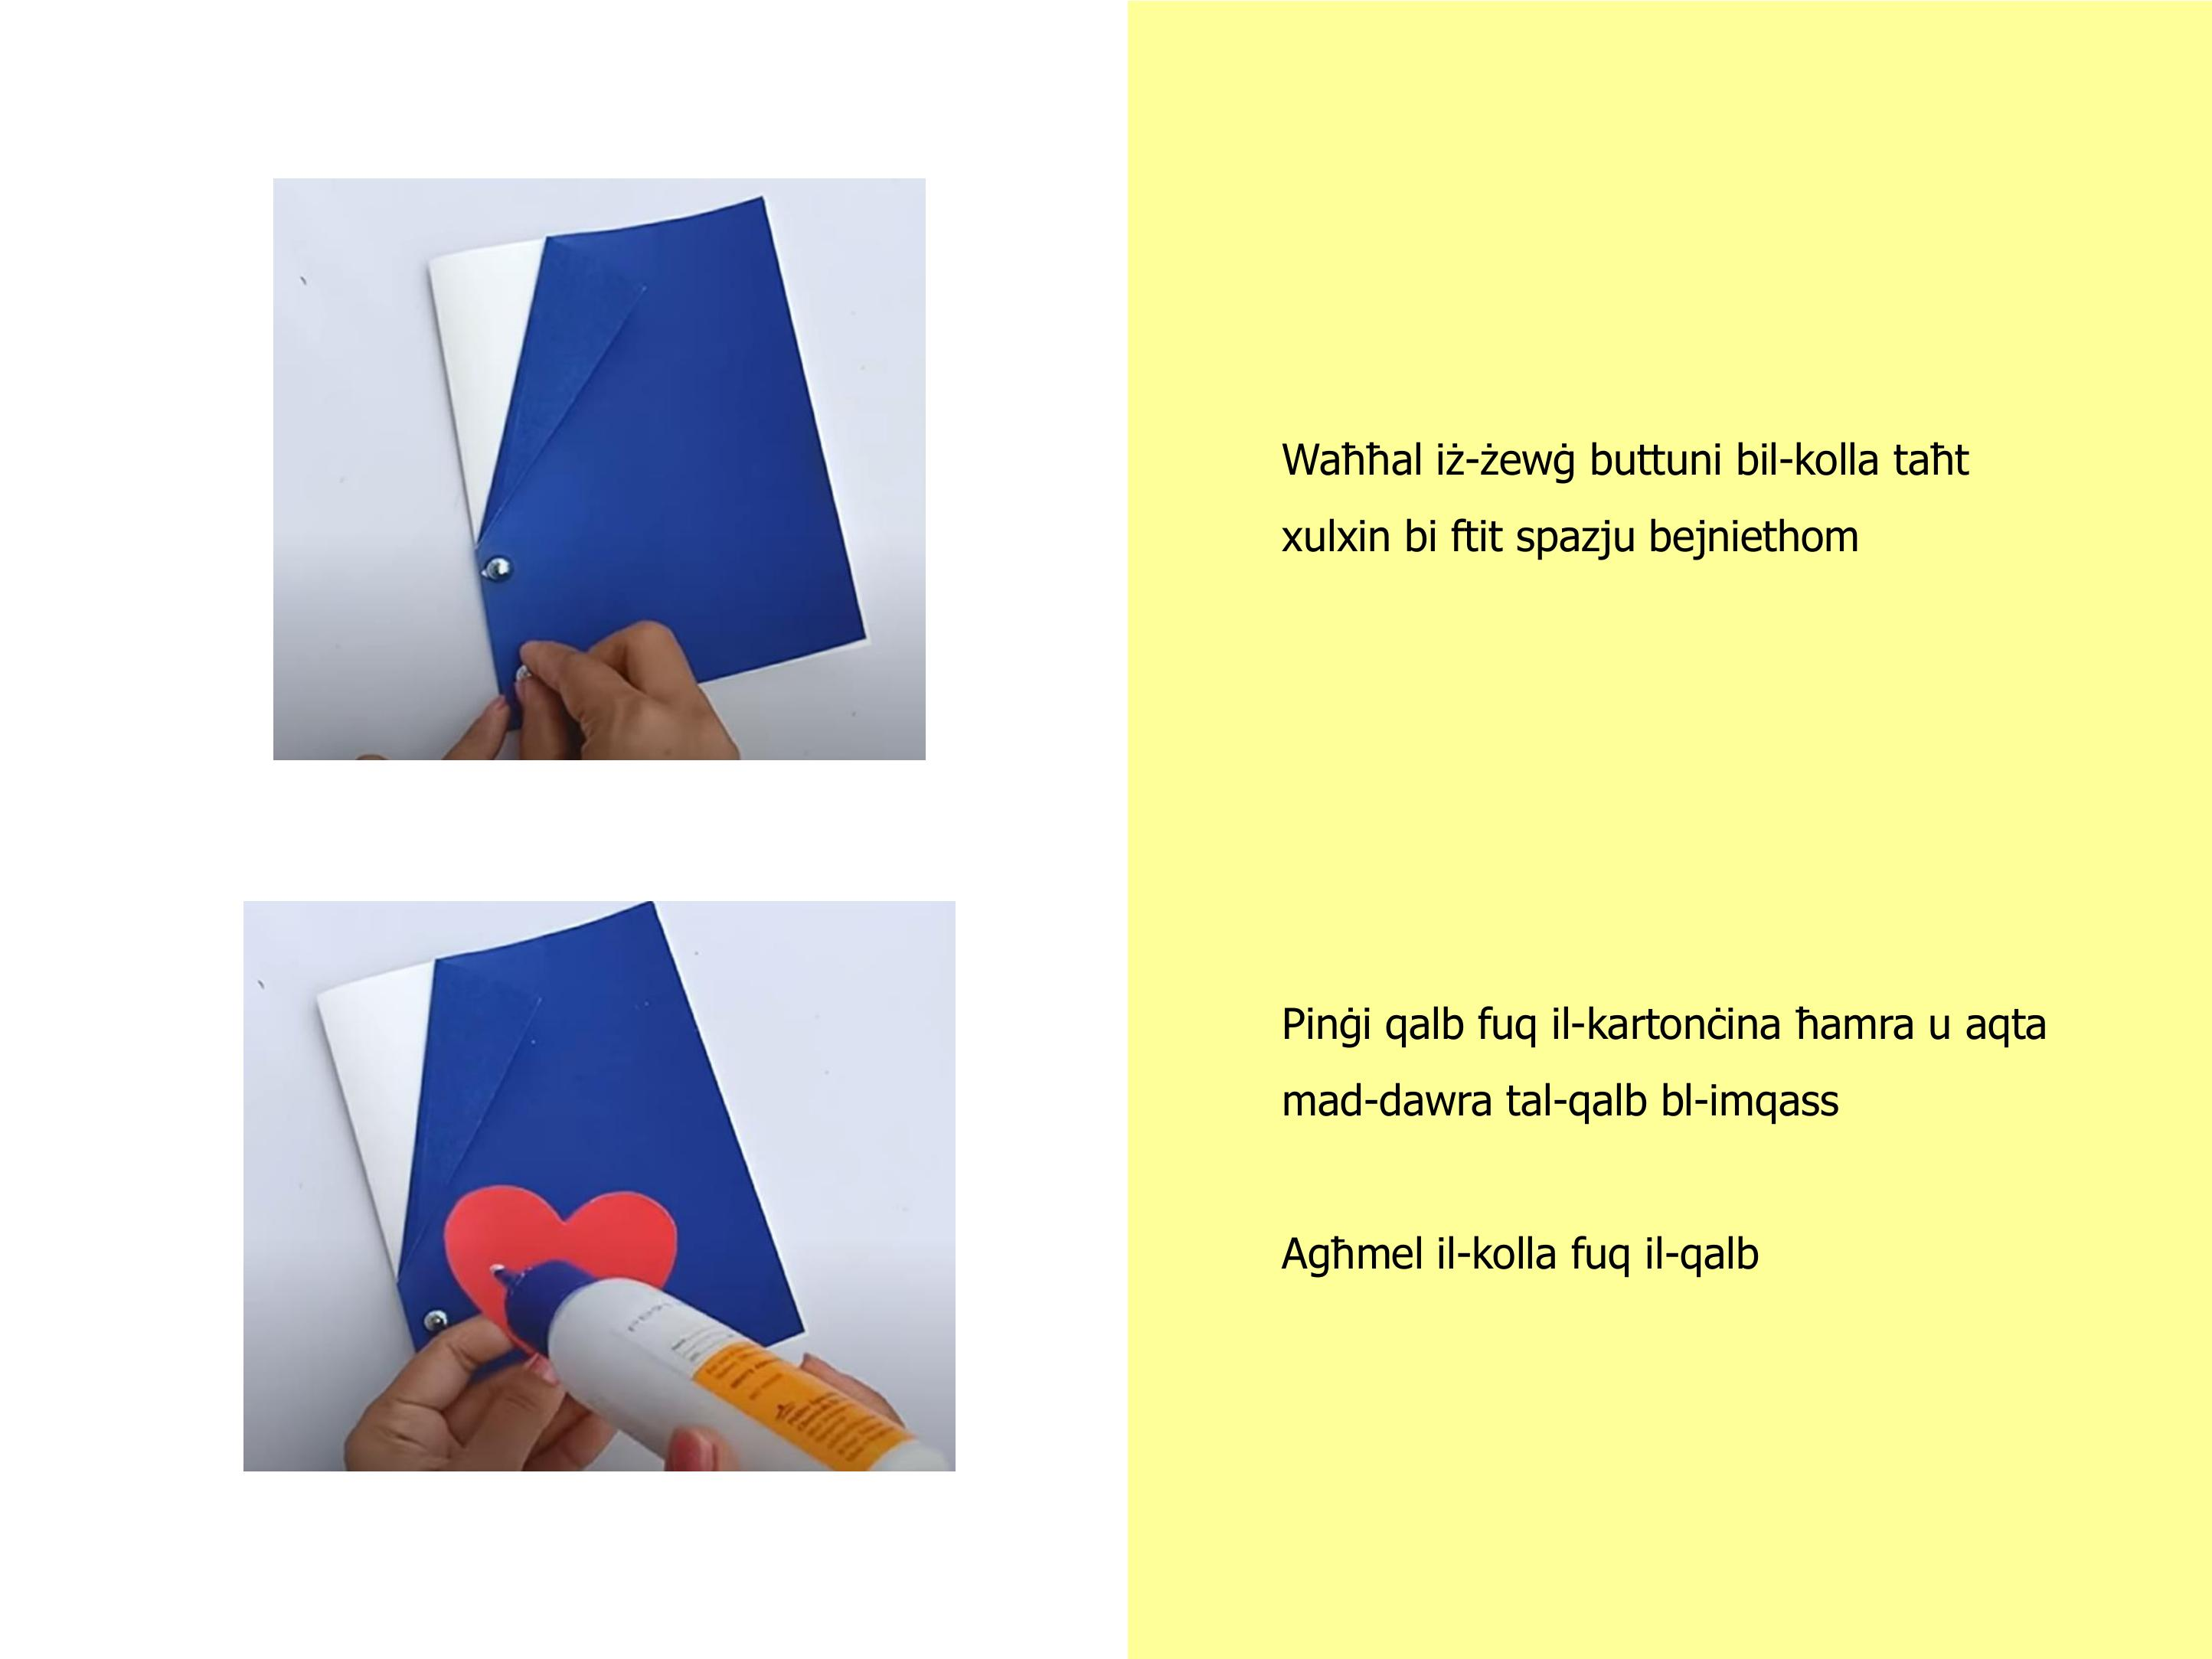text: (1238, 404, 2060, 1307)
